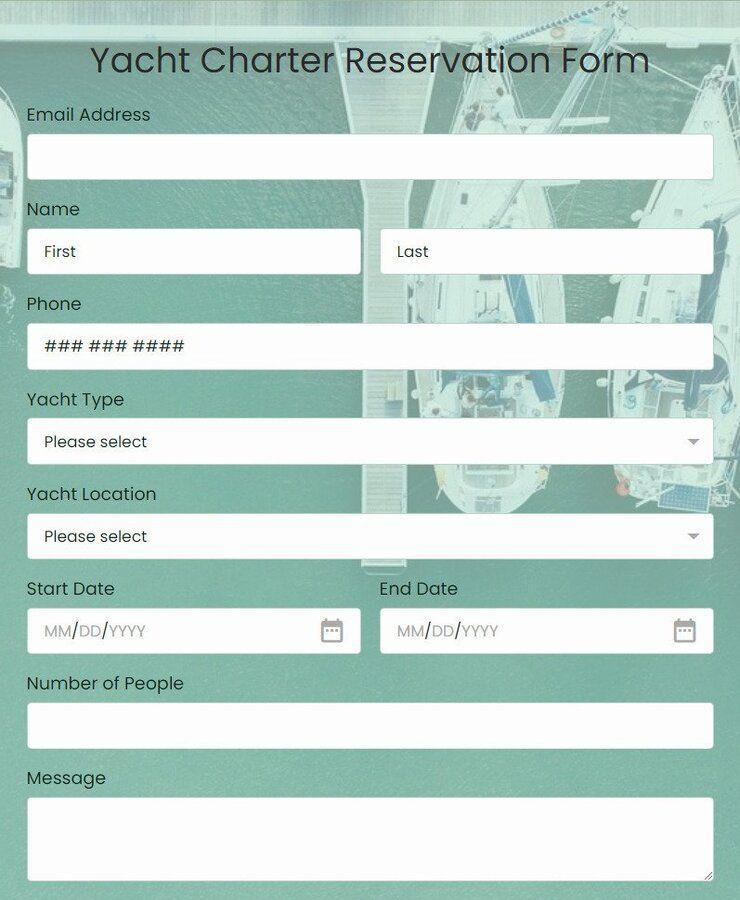dropdown: (26, 513, 716, 562), (27, 417, 716, 466)
input: (21, 131, 718, 183), (26, 322, 715, 374), (25, 701, 717, 751), (26, 227, 363, 277), (381, 607, 716, 657), (25, 608, 361, 656), (380, 229, 715, 277)
label: (90, 46, 651, 81), (26, 677, 186, 694), (27, 107, 155, 124), (27, 392, 128, 412), (25, 488, 158, 503), (26, 582, 117, 600), (379, 581, 460, 599), (25, 201, 81, 219), (29, 297, 82, 314)
